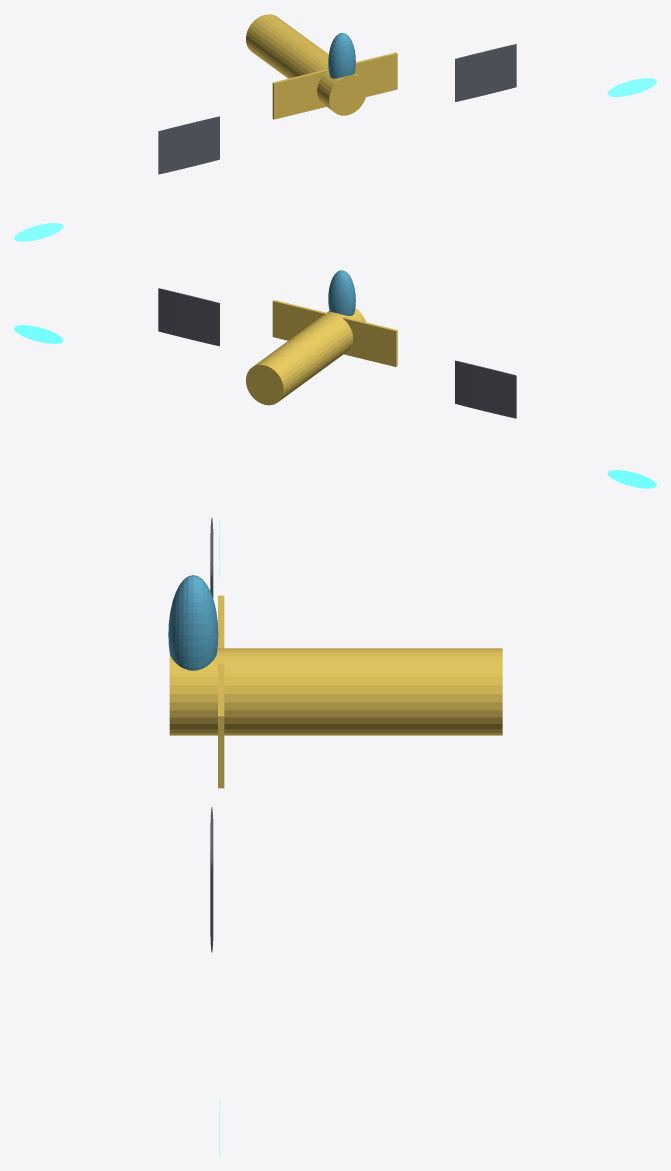
Rendered from CO_LeiheGunship_LOD1.glb.
The picture shows the model from 3 angles, top to bottom: view 1: azimuth 30°, elevation 25°; view 2: azimuth 150°, elevation 25°; view 3: azimuth 270°, elevation 25°; orthographic projection. The views are drawn at different scales.
Visible parts, largest first — view 1: Cylinder, Cube, Cylinder.001, Cylinder.003, Sphere, Cylinder.004, Cylinder.002; view 2: Cylinder, Cube, Cylinder.001, Cylinder.003, Sphere, Cylinder.004, Cylinder.002; view 3: Cylinder, Sphere, Cube.
Part boxes in pixels (box(x1,y1,x2,y2)): Cylinder: box(246, 14, 366, 115); Cube: box(272, 52, 397, 119); Cylinder.001: box(158, 116, 219, 174); Cylinder.003: box(455, 44, 516, 101); Sphere: box(328, 33, 355, 78); Cylinder.004: box(607, 78, 656, 96); Cylinder.002: box(14, 223, 63, 241); Cylinder: box(246, 308, 365, 405); Cube: box(272, 300, 397, 366); Cylinder.001: box(455, 360, 516, 418); Cylinder.003: box(158, 288, 219, 346); Sphere: box(328, 270, 355, 315); Cylinder.004: box(14, 325, 63, 343); Cylinder.002: box(607, 470, 656, 488); Cylinder: box(169, 648, 502, 735); Sphere: box(168, 575, 218, 670); Cube: box(218, 595, 224, 788).
Size of what is drawn, in the model's own units: 18.72 by 3.86 by 4.21.
